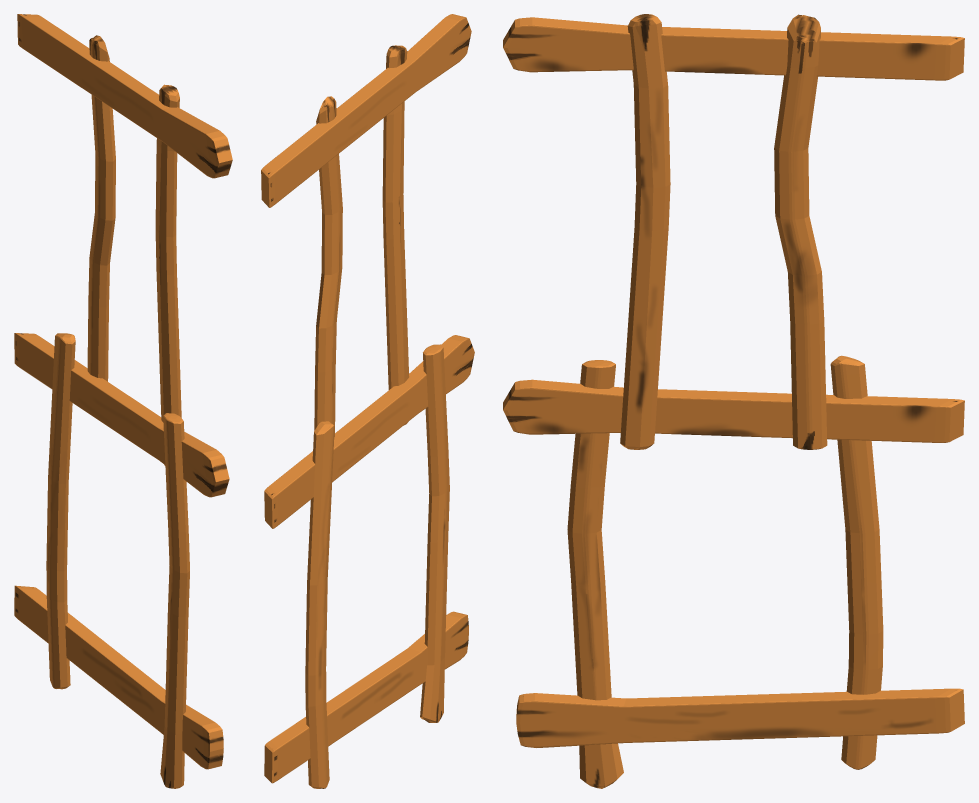
The model's file is Fence.fbx.
The picture shows the model from 3 angles, left to right: view 1: azimuth 30°, elevation 25°; view 2: azimuth 150°, elevation 25°; view 3: azimuth 270°, elevation 25°; orthographic projection. The views are drawn at different scales.
Parts seen in each view (by area): view 1: Fence Ref, Fence Post Ref; view 2: Fence Ref, Fence Post Ref; view 3: Fence Ref, Fence Post Ref.
Part boxes in pixels (bbox=[...]): Fence Ref: bbox=[14, 35, 229, 788]; Fence Post Ref: bbox=[17, 14, 232, 178]; Fence Ref: bbox=[264, 45, 474, 788]; Fence Post Ref: bbox=[261, 14, 471, 207]; Fence Ref: bbox=[503, 14, 964, 788]; Fence Post Ref: bbox=[503, 17, 964, 80].
Bounding box in the file's own units: 0.1869 × 4.08 × 2.19.
1 material, 1 textured.
